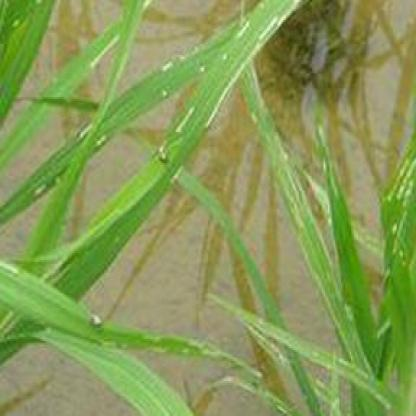rice-bug: (88, 312, 109, 330), (156, 140, 172, 162)
